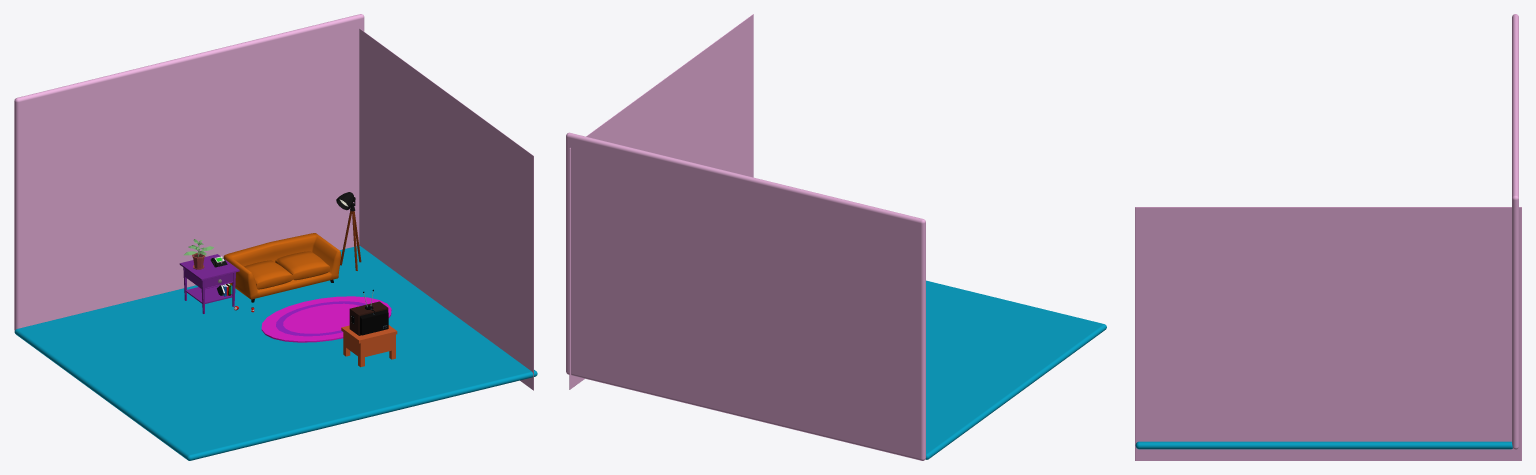
The model's file is simpsons_room.gltf.
3 renders of one model, left to right at view 1: azimuth 30°, elevation 25°; view 2: azimuth 150°, elevation 25°; view 3: azimuth 270°, elevation 25°, orthographic. The views are drawn at different scales.
Parts seen in each view (by area): view 1: wall_back, floor, wall_right, Couch_Medium1_1, rugRound_2, NightStand_2_1, cabinetBedDrawerTable, group466038209, rugRound_2_1; view 2: wall_back, floor, wall_right; view 3: wall_right, floor, wall_back.
Boxes of the visible parts, <box> form: wall_back: <box>14,14,364,330</box>; floor: <box>14,245,537,460</box>; wall_right: <box>359,28,533,390</box>; Couch_Medium1_1: <box>223,233,340,299</box>; rugRound_2: <box>261,296,391,342</box>; NightStand_2_1: <box>179,254,239,313</box>; cabinetBedDrawerTable: <box>341,325,397,367</box>; group466038209: <box>359,309,388,335</box>; rugRound_2_1: <box>276,301,367,336</box>; wall_back: <box>566,132,925,460</box>; floor: <box>925,280,1106,459</box>; wall_right: <box>569,14,753,389</box>; wall_right: <box>1135,207,1521,460</box>; floor: <box>1135,441,1512,449</box>; wall_back: <box>1512,14,1518,449</box>.
Bounding box in the file's own units: 9.24 × 6.22 × 8.16.
120 materials, 1 textured.
